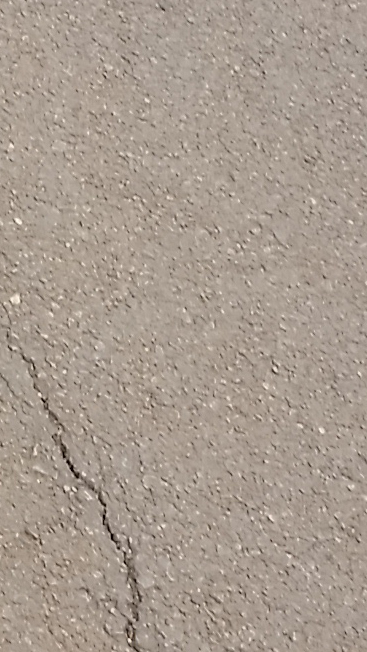A: (8, 336, 176, 645)
